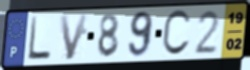2: (193, 9, 222, 56)
8: (97, 12, 122, 59)
9: (127, 10, 156, 60)
C: (160, 8, 193, 58)
L: (26, 15, 53, 63)
V: (58, 12, 91, 62)
